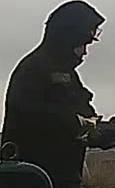helmet: (88, 19, 104, 42)
vest: (3, 56, 94, 175)
